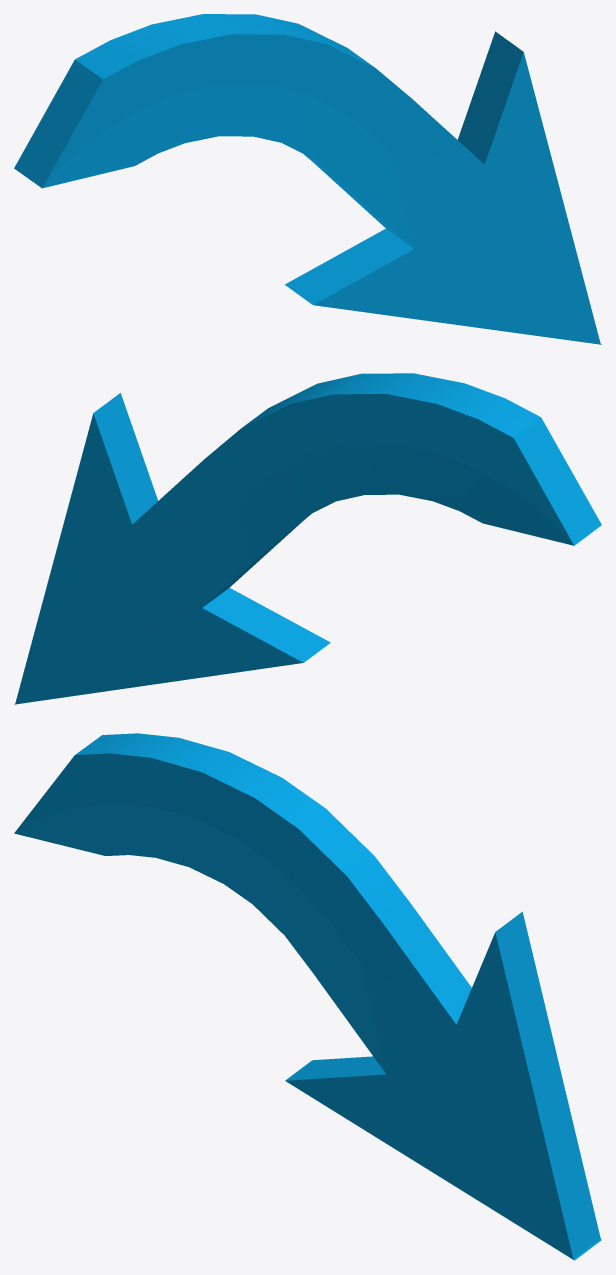
The model's file is Z-Axis-Rotation.fbx.
The picture shows the model from 3 angles, top to bottom: view 1: azimuth 30°, elevation 25°; view 2: azimuth 150°, elevation 25°; view 3: azimuth 330°, elevation 25°; orthographic projection.
Parts seen in each view (by area): view 1: polySurface16; view 2: polySurface16; view 3: polySurface16.
Boxes of the visible parts, box(x1,y1,x2,y2) form: polySurface16: box(14, 14, 601, 344); polySurface16: box(14, 373, 601, 704); polySurface16: box(14, 733, 601, 1260).
Size of the model in its own units: 3.59 by 2.47 by 0.3433.
